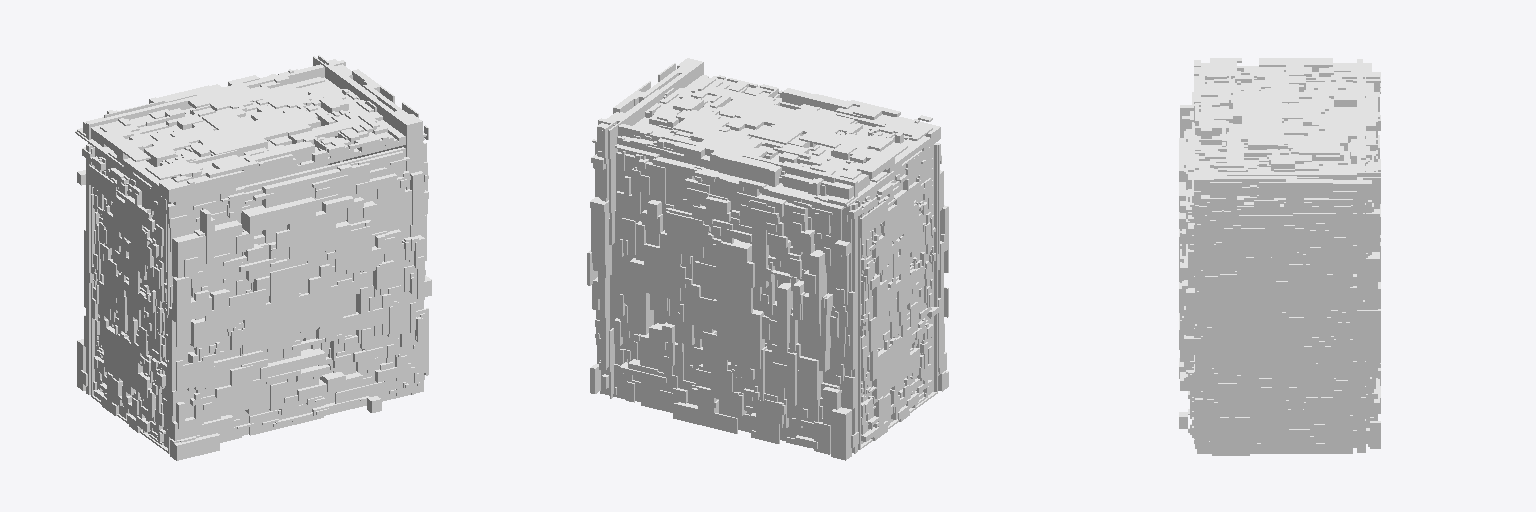
The model's file is NormalWallWidth.obj.
3 renders of one model, left to right at view 1: azimuth 30°, elevation 25°; view 2: azimuth 150°, elevation 25°; view 3: azimuth 270°, elevation 25°, orthographic.
Parts seen in each view (by area): view 1: object 1; view 2: object 1; view 3: object 1.
Boxes of the visible parts, box(x1,y1,x2,y2) form: object 1: box(75, 55, 431, 460); object 1: box(587, 58, 948, 460); object 1: box(1179, 58, 1380, 455).
Size of the model in its own units: 16 by 16 by 10.8.